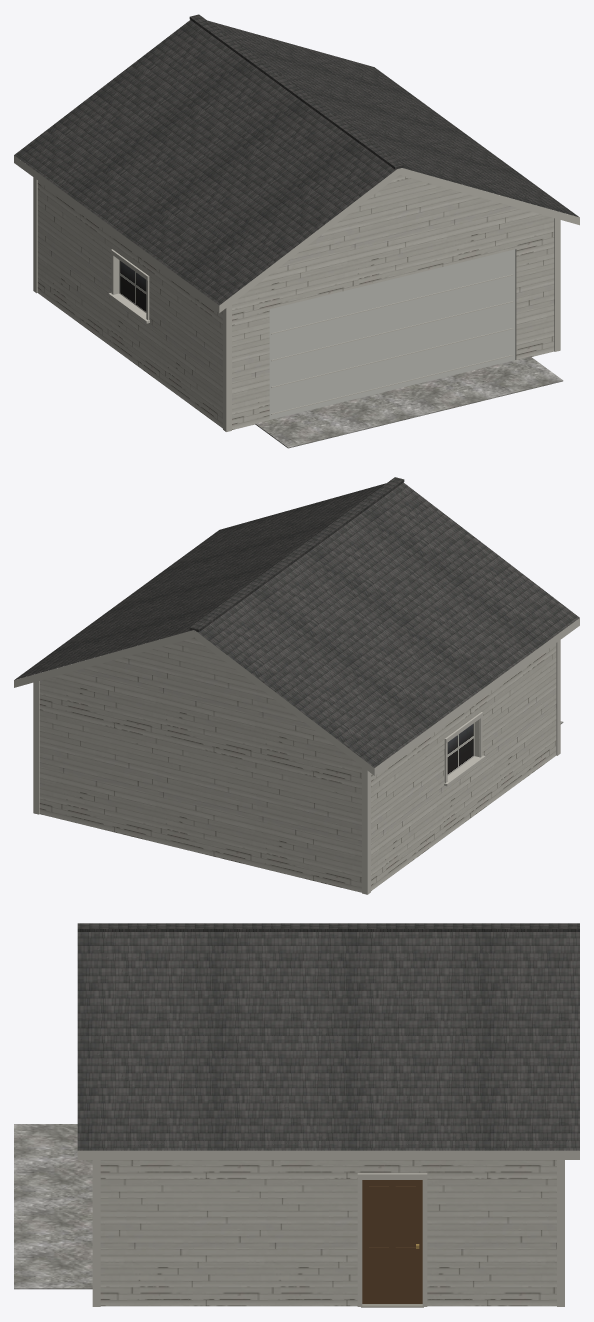
The model's file is town_garage 2.gltf.
3 renders of one model, top to bottom at view 1: azimuth 30°, elevation 25°; view 2: azimuth 150°, elevation 25°; view 3: azimuth 270°, elevation 25°, orthographic. The views are drawn at different scales.
Visible parts, largest first — view 1: TownGarage_Roof, TownGarage_Walls, TownGarage_GarageDoor, TownGarage_Apron, TownGarage_Fascia, TownGarage_Trim, TownGarage_Ridge, TownGarage_Window; view 2: TownGarage_Walls, TownGarage_Roof, TownGarage_Fascia, TownGarage_Trim, TownGarage_Ridge, TownGarage_Window; view 3: TownGarage_Roof, TownGarage_Walls, TownGarage_Apron, TownGarage_ClosedDoor, TownGarage_Fascia, TownGarage_Ridge, TownGarage_Trim.
Part boxes in pixels (left/top/right/bottom): TownGarage_Roof: left=14, top=20, right=579, bottom=305; TownGarage_Walls: left=37, top=175, right=554, bottom=429; TownGarage_GarageDoor: left=269, top=249, right=515, bottom=419; TownGarage_Apron: left=255, top=356, right=563, bottom=448; TownGarage_Fascia: left=14, top=155, right=579, bottom=312; TownGarage_Trim: left=33, top=177, right=560, bottom=431; TownGarage_Ridge: left=189, top=14, right=404, bottom=169; TownGarage_Window: left=119, top=260, right=146, bottom=312; TownGarage_Walls: left=39, top=637, right=556, bottom=892; TownGarage_Roof: left=15, top=482, right=579, bottom=767; TownGarage_Fascia: left=14, top=618, right=579, bottom=775; TownGarage_Trim: left=33, top=640, right=560, bottom=894; TownGarage_Ridge: left=189, top=477, right=404, bottom=631; TownGarage_Window: left=447, top=723, right=474, bottom=775; TownGarage_Roof: left=77, top=932, right=579, bottom=1150; TownGarage_Walls: left=100, top=1160, right=556, bottom=1306; TownGarage_Apron: left=14, top=1124, right=92, bottom=1289; TownGarage_ClosedDoor: left=362, top=1180, right=422, bottom=1303; TownGarage_Fascia: left=77, top=1150, right=579, bottom=1159; TownGarage_Ridge: left=77, top=923, right=579, bottom=931; TownGarage_Trim: left=92, top=1160, right=564, bottom=1306.
Size of what is drawn, in the model's own units: 7.6 by 4.63 by 8.45.
1 material, 1 textured.
